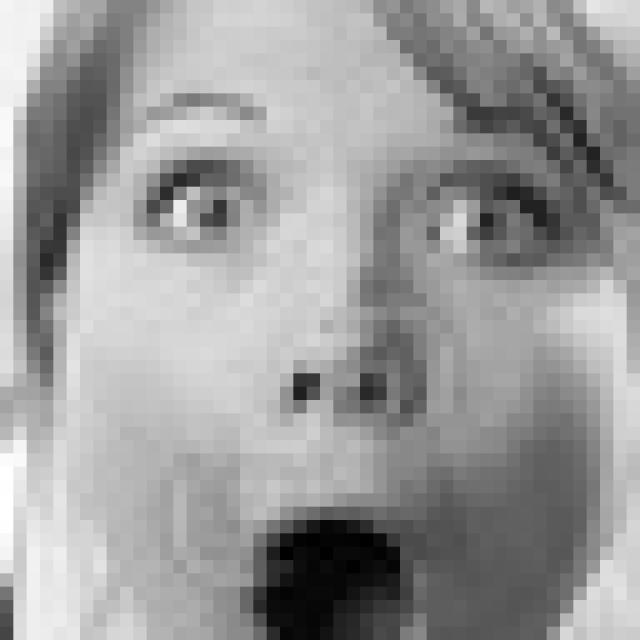surprise: (111, 87, 574, 640)
